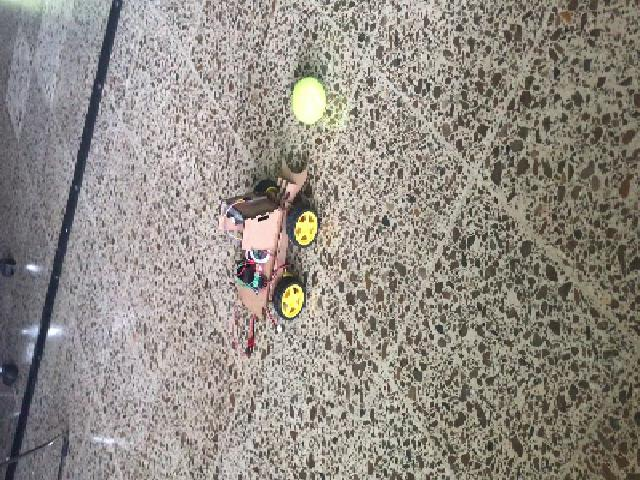Ball: (291, 78, 326, 124)
Robot: (218, 157, 320, 328)
